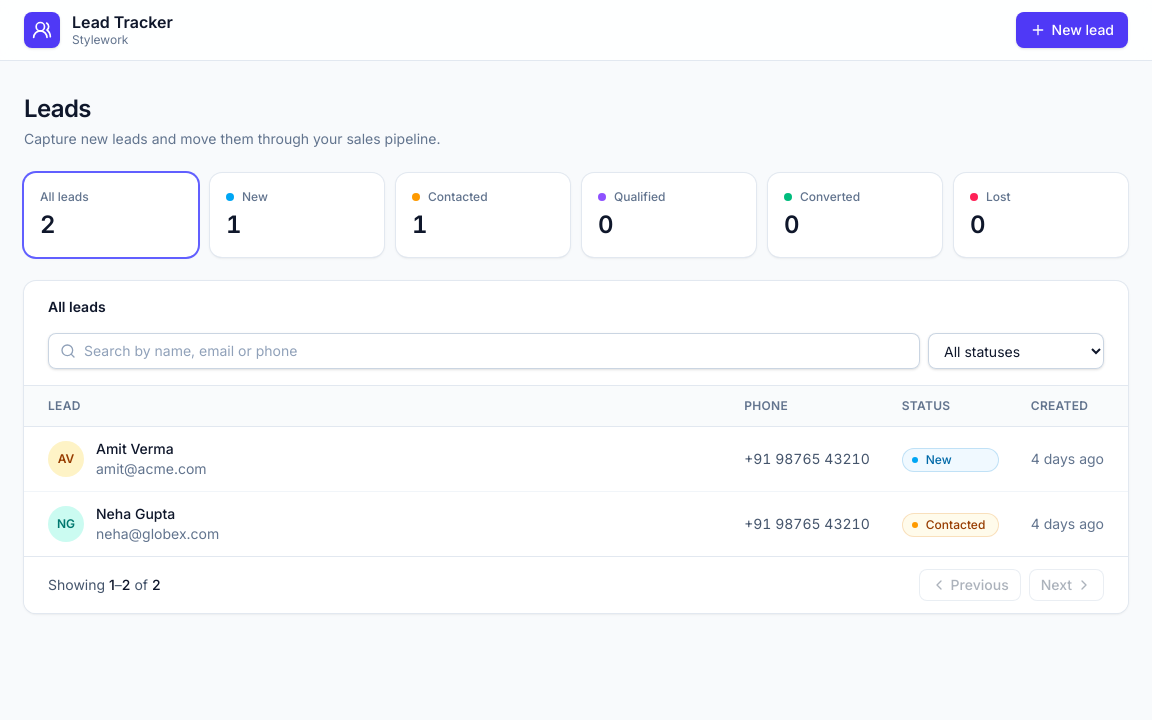
Test: App › shows pipeline counts and filters by status when a card is clicked
Check: the button "All leads 2" is shown, box [24,173,198,257]
Click the button "Contacted 1": (483, 215) [396,173,570,257]
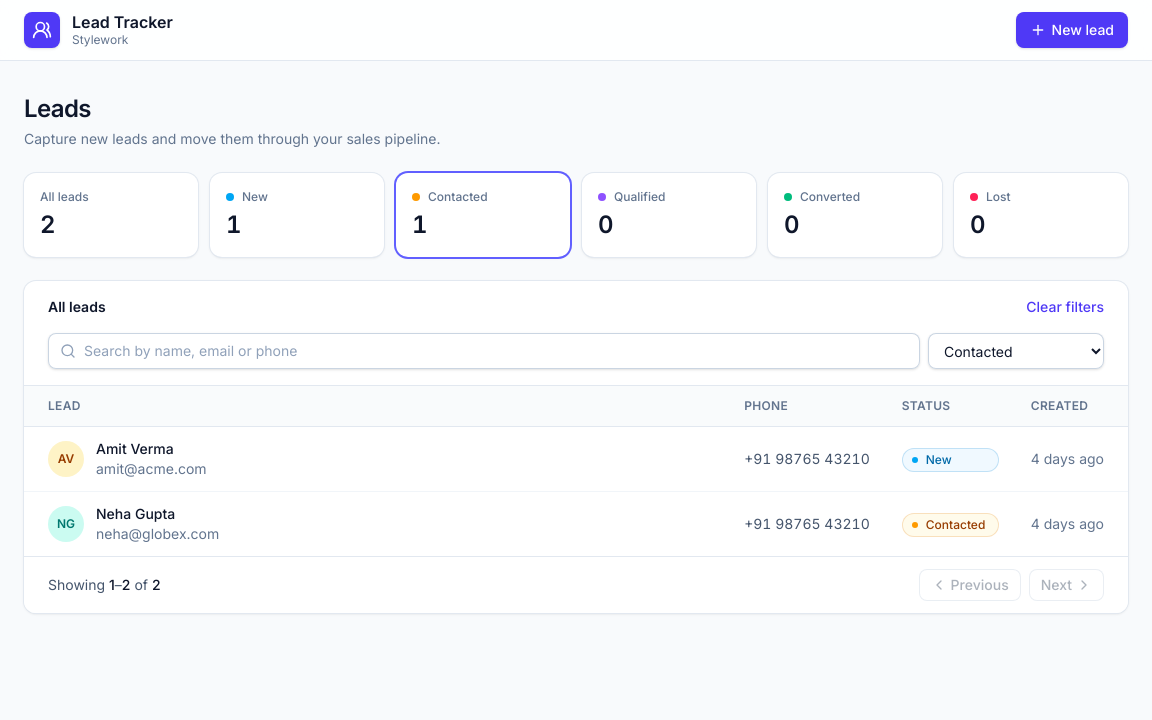
Check: the dropdown named "Filter by status" shows "Contacted", box [928,333,1104,369]
